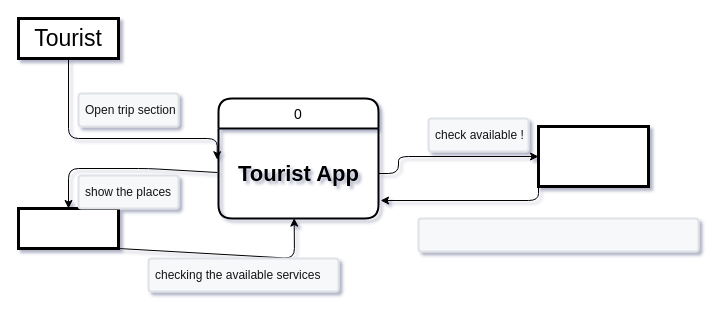
The diagram is 723 pixels wide and 316 high, and some of its shapes have lost their labels. The shapes that lost their labels are listed below. From the top down, each one's centre as x and y in pixels, then its label:
At point (593, 156): "Services".
At point (68, 228): "Place".
At point (558, 234): "show the available services in the current location".
